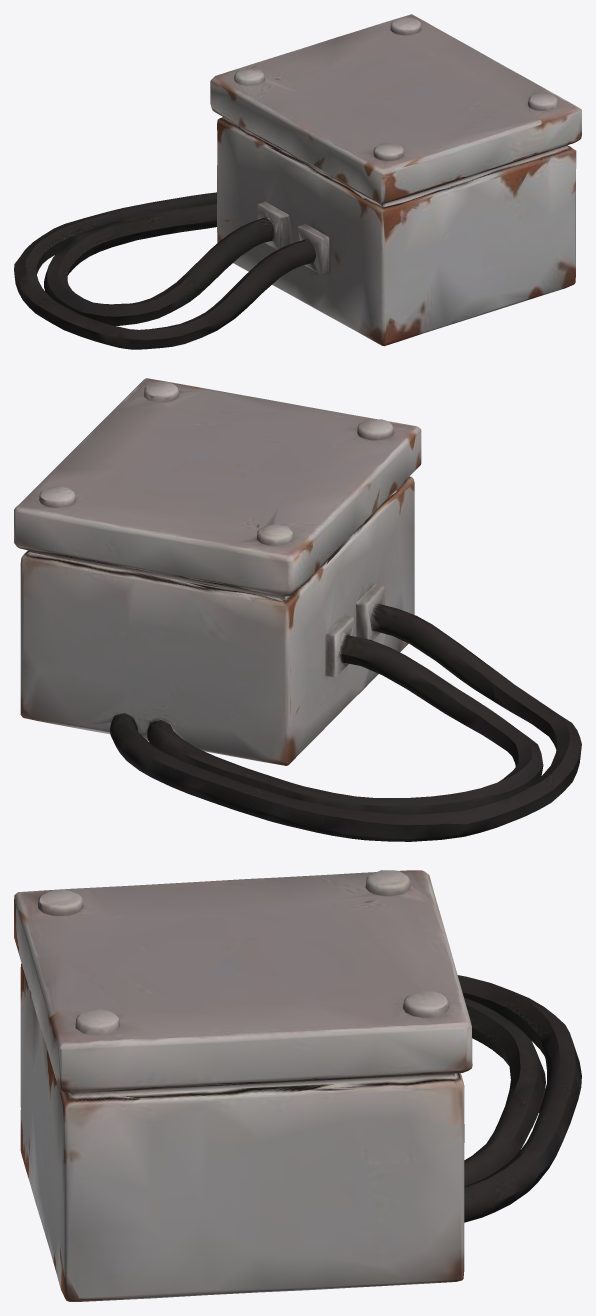
The model's file is decor_junction_box_idle.glb.
3 views of the same model, one above another, from view 1: azimuth 30°, elevation 25°; view 2: azimuth 150°, elevation 25°; view 3: azimuth 270°, elevation 25° (orthographic). The views are drawn at different scales.
Visible parts, largest first — view 1: tripo_node_eccbb23b-51e1-4444-80c4-6cea6d9ed84e; view 2: tripo_node_eccbb23b-51e1-4444-80c4-6cea6d9ed84e; view 3: tripo_node_eccbb23b-51e1-4444-80c4-6cea6d9ed84e.
Part boxes in pixels (x1=…): tripo_node_eccbb23b-51e1-4444-80c4-6cea6d9ed84e: x1=14, y1=14, x2=581, y2=349; tripo_node_eccbb23b-51e1-4444-80c4-6cea6d9ed84e: x1=14, y1=378, x2=581, y2=841; tripo_node_eccbb23b-51e1-4444-80c4-6cea6d9ed84e: x1=14, y1=870, x2=581, y2=1301.
Size of the model in its own units: 0.7478 by 0.2999 by 0.5635.
1 material, 1 textured.
